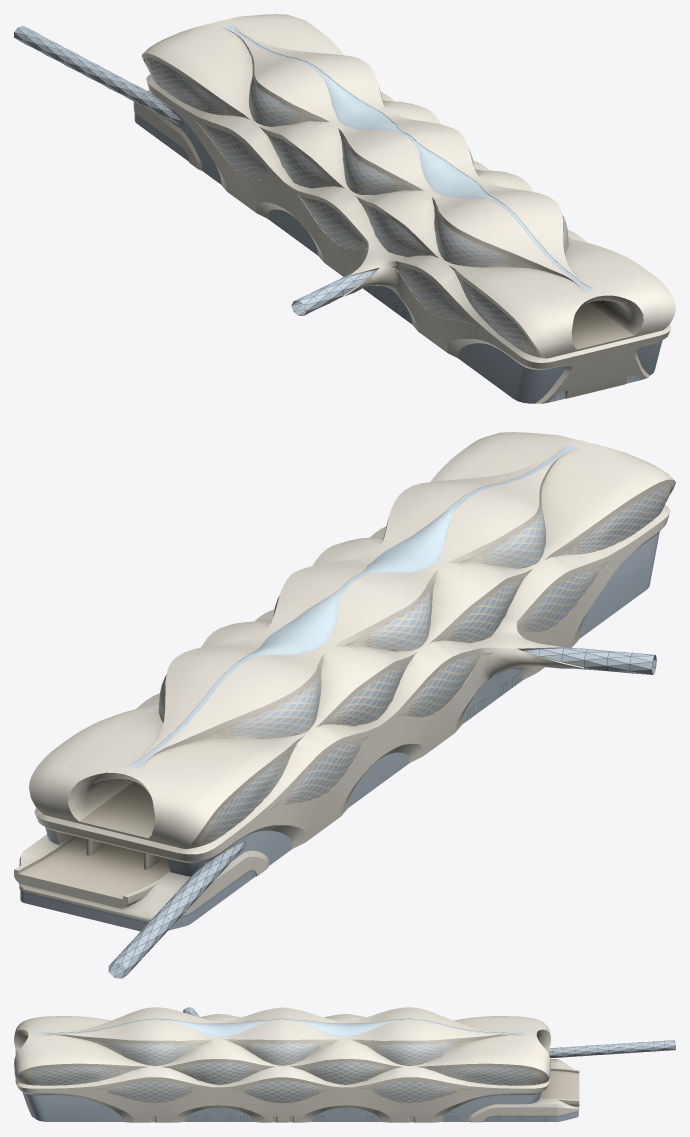
File: metrostantion.glb
3 renders of one model, top to bottom at view 1: azimuth 30°, elevation 25°; view 2: azimuth 150°, elevation 25°; view 3: azimuth 270°, elevation 25°, orthographic. The views are drawn at different scales.
Visible parts, largest first — view 1: metrostantion; view 2: metrostantion; view 3: metrostantion.
Part boxes in pixels (bbox=[...]): metrostantion: bbox=[14, 14, 675, 403]; metrostantion: bbox=[14, 432, 675, 978]; metrostantion: bbox=[14, 1007, 675, 1122].
Size of the model in its own units: 74.65 by 32.61 by 245.
Materials: 1 (1 with a texture image).
